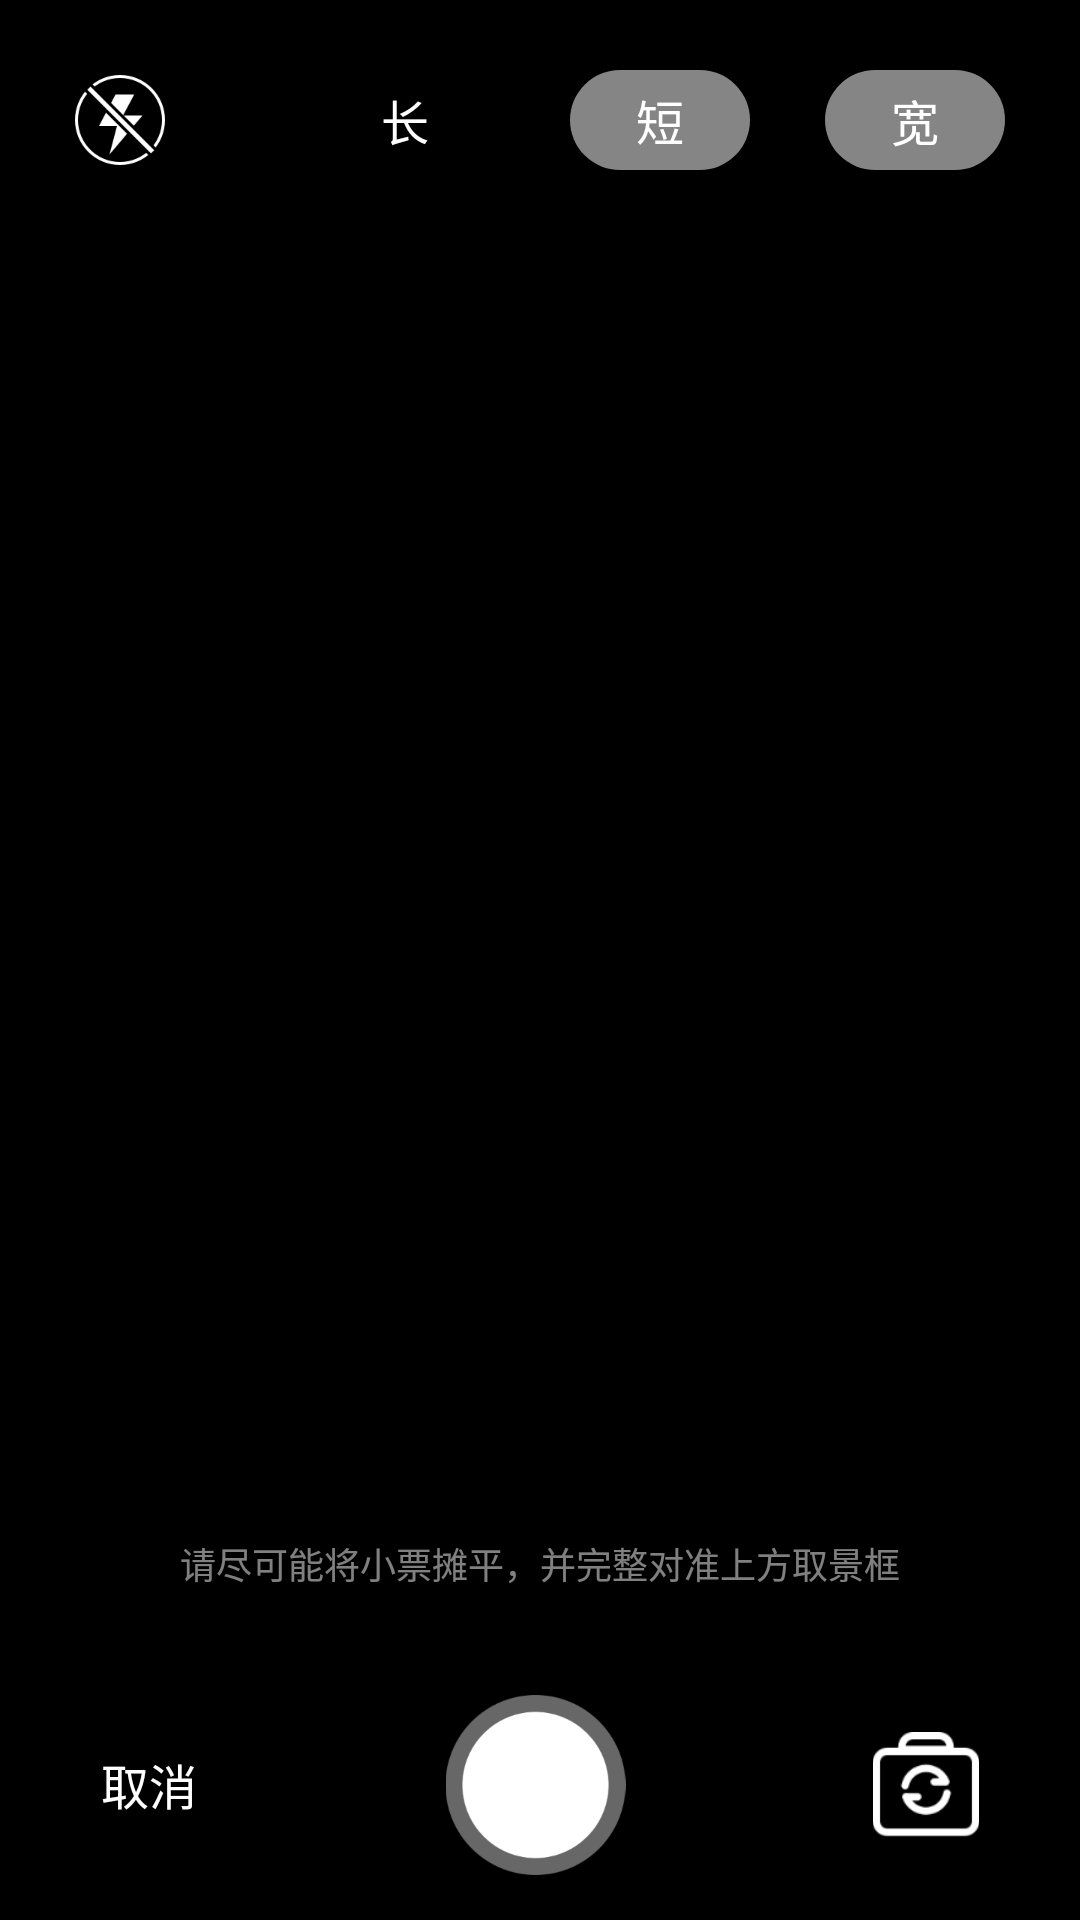

Icons on this 1080×1920 Android screen, each with its box as (x1, y1, x2, y2):
take photo: (446, 1695, 626, 1875)
take rotate: (873, 1732, 979, 1837)
